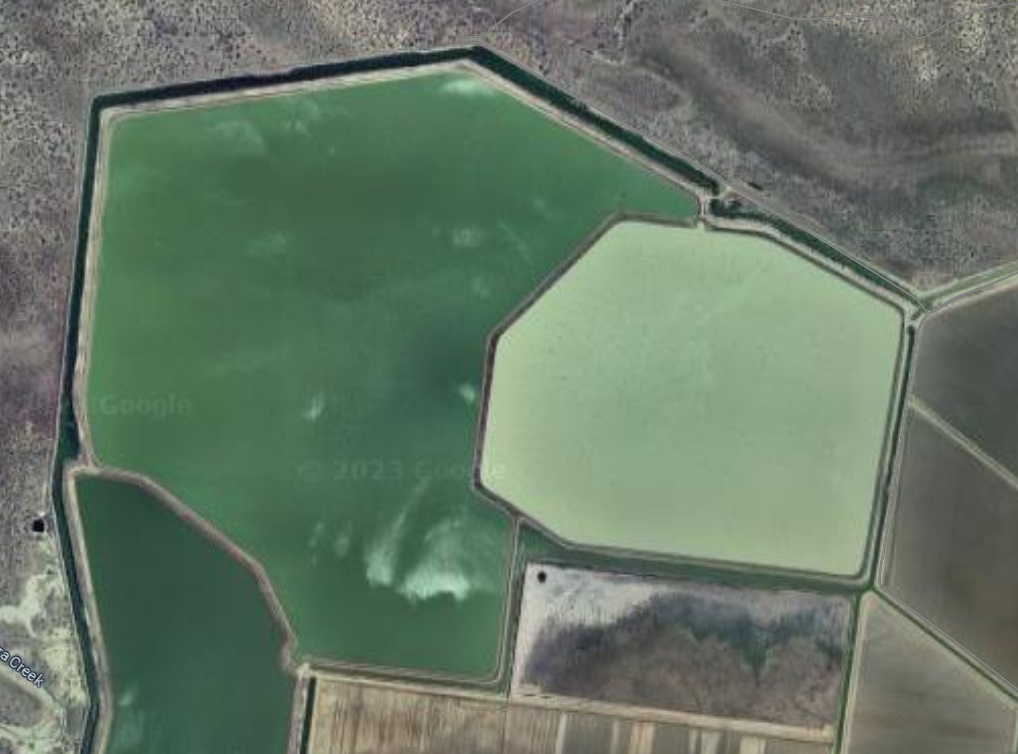deadspot: (504, 551, 860, 737)
reservoir: (57, 35, 725, 689), (449, 178, 922, 571)
